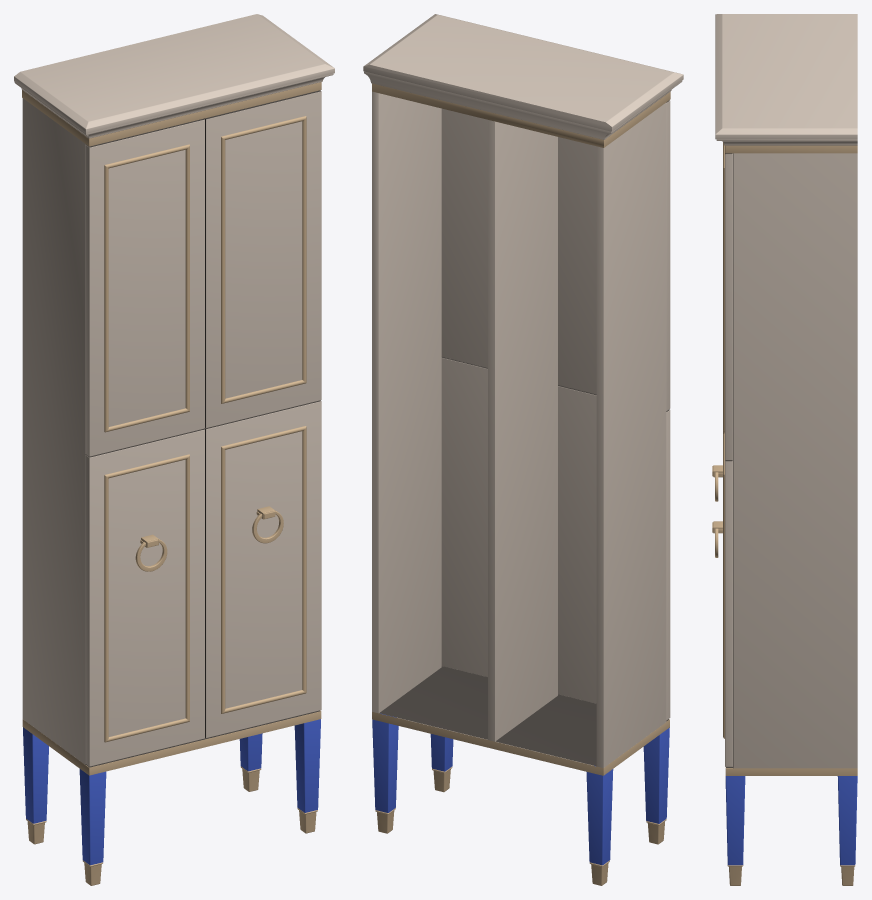
3 renders of one model, left to right at view 1: azimuth 30°, elevation 25°; view 2: azimuth 150°, elevation 25°; view 3: azimuth 270°, elevation 25°, orthographic.
Visible parts, largest first — view 1: AV12; view 2: AV12; view 3: AV12.
Part boxes in pixels (left/top/right/bottom): AV12: left=14, top=14, right=334, bottom=885; AV12: left=363, top=14, right=683, bottom=885; AV12: left=712, top=14, right=857, bottom=885.
Bounding box in the file's own units: 0.644 × 1.9 × 0.3289.
Materials: 5 (2 with a texture image).
